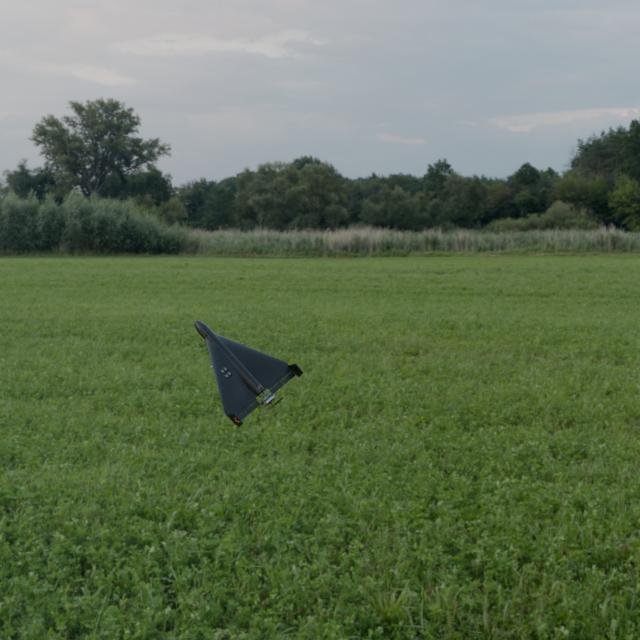Airaplan: (194, 320, 303, 427)
